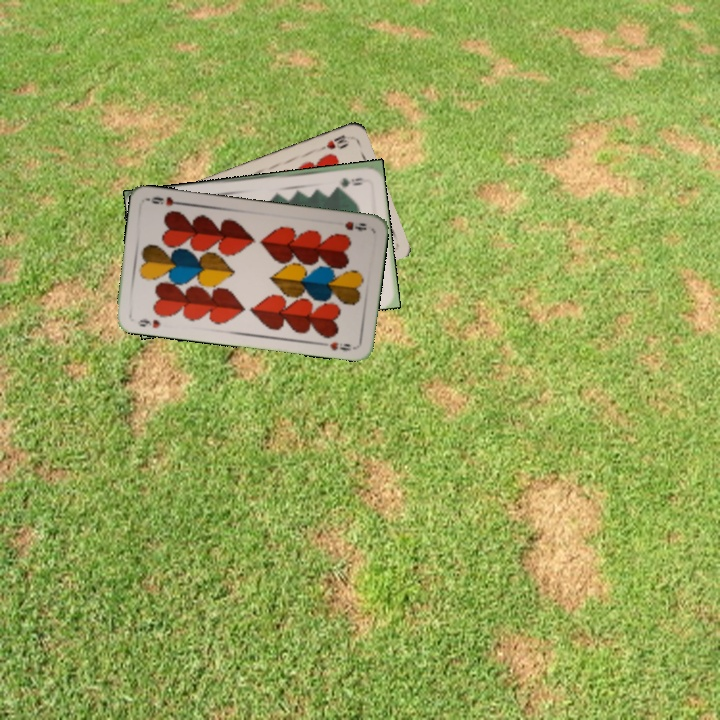G9: (337, 174, 365, 188)
H10: (314, 131, 350, 154)
H9: (134, 314, 163, 331), (341, 217, 369, 234)
